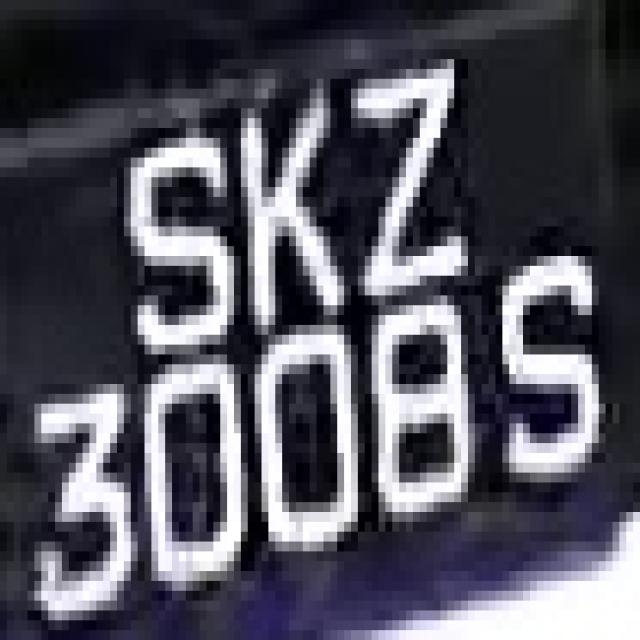0: (117, 315, 261, 591), (248, 295, 364, 571)
3: (0, 344, 145, 610)
8: (358, 256, 488, 532)
K: (220, 78, 372, 344)
S: (488, 197, 598, 512), (110, 98, 234, 364)
Z: (323, 49, 475, 296)
